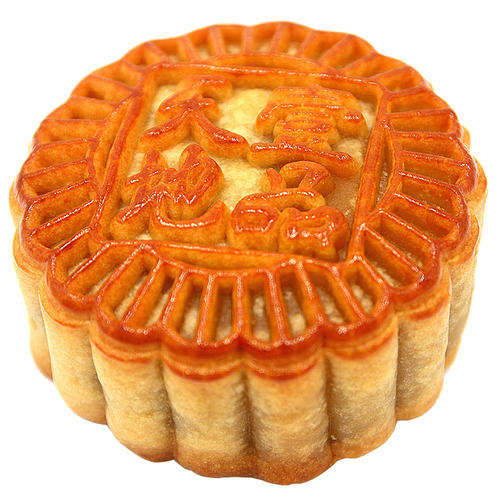MoonCake: (9, 19, 489, 487)
